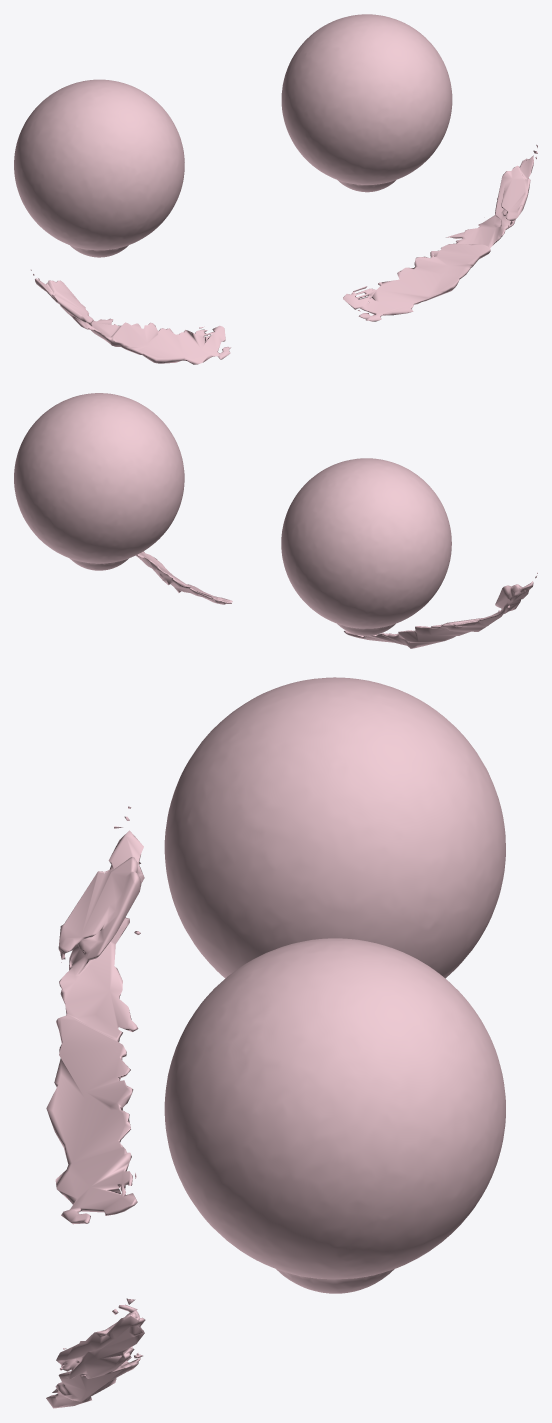
File: orbite-organes.glb
The picture shows the model from 3 angles, top to bottom: view 1: azimuth 30°, elevation 25°; view 2: azimuth 150°, elevation 25°; view 3: azimuth 270°, elevation 25°; orthographic projection. The views are drawn at different scales.
Parts seen in each view (by area): view 1: globe_oculaire, sourcils_ensemble; view 2: globe_oculaire, sourcils_ensemble; view 3: globe_oculaire, sourcils_ensemble.
Part boxes in pixels (box(x1,y1,x2,y2)): globe_oculaire: box(14, 14, 452, 257); sourcils_ensemble: box(31, 144, 537, 364); globe_oculaire: box(14, 393, 451, 635); sourcils_ensemble: box(135, 551, 537, 648); globe_oculaire: box(164, 677, 505, 1293); sourcils_ensemble: box(46, 806, 145, 1408).
Size of the model in its own units: 106 by 47.11 by 41.66.
